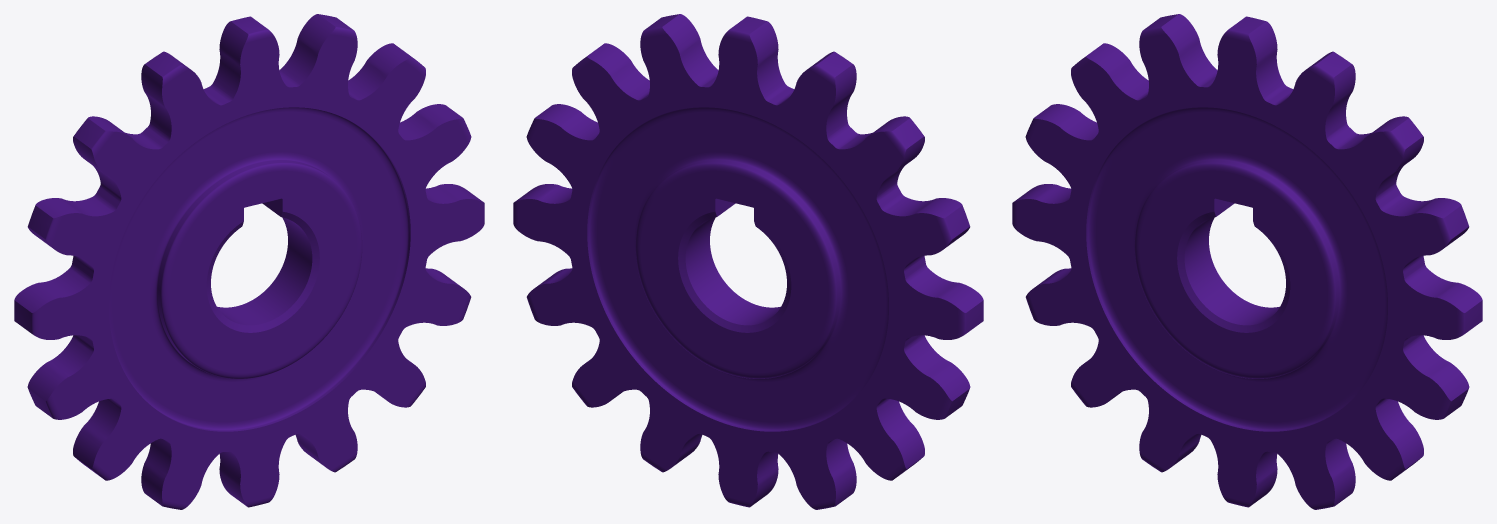
File: gear2.fbx
3 renders of one model, left to right at view 1: azimuth 30°, elevation 25°; view 2: azimuth 150°, elevation 25°; view 3: azimuth 330°, elevation 25°, orthographic.
Parts seen in each view (by area): view 1: Gear_Spur_16T_Keyway; view 2: Gear_Spur_16T_Keyway; view 3: Gear_Spur_16T_Keyway.
Boxes of the visible parts, x1,y1,x2,y2 form: Gear_Spur_16T_Keyway: (14, 14, 484, 509); Gear_Spur_16T_Keyway: (513, 14, 983, 509); Gear_Spur_16T_Keyway: (1012, 14, 1482, 509).
Size of the model in its own units: 268 by 268 by 28.22.
